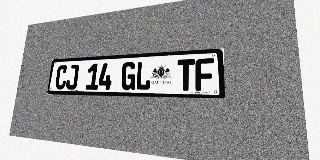1: (85, 63, 100, 90)
4: (98, 63, 113, 90)
C: (54, 65, 68, 89)
F: (195, 58, 214, 91)
G: (120, 62, 136, 90)
J: (65, 64, 79, 90)
L: (135, 61, 151, 90)
T: (177, 59, 195, 91)
